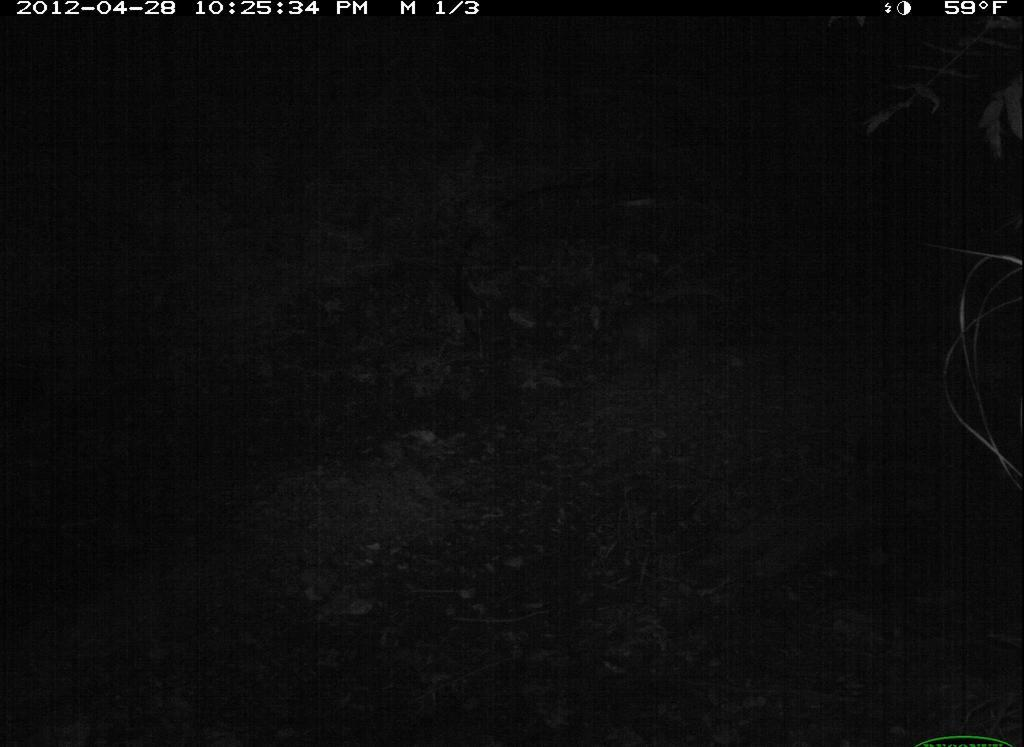opossum: (570, 282, 719, 381)
